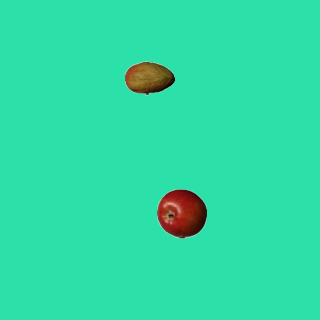Apple Braeburn: (156, 188, 206, 238)
Papaya: (124, 53, 174, 103)
